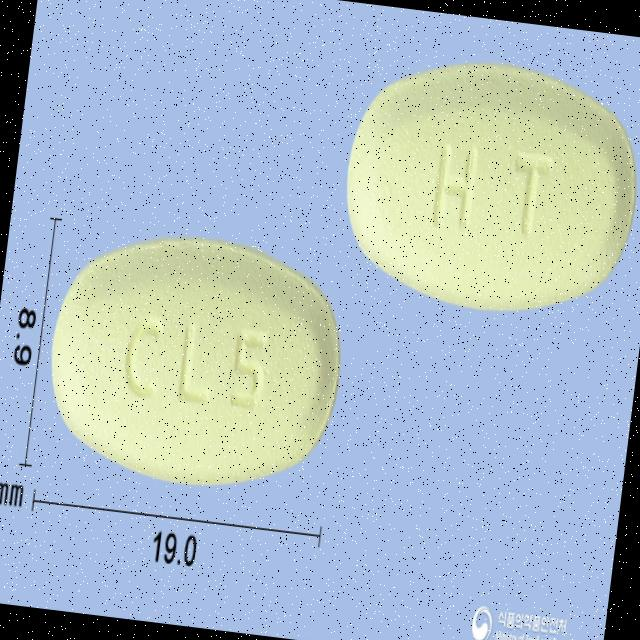Clathrocin: (36, 218, 356, 502), (329, 42, 640, 328)
